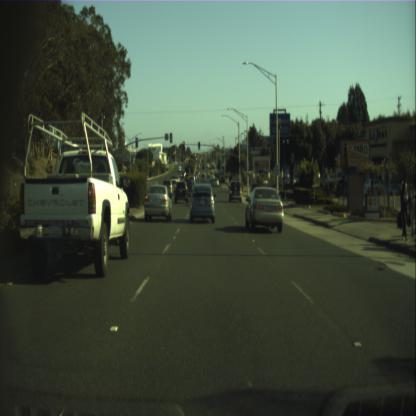Green: (198, 141, 200, 150)
RedLeft: (182, 140, 185, 150)
